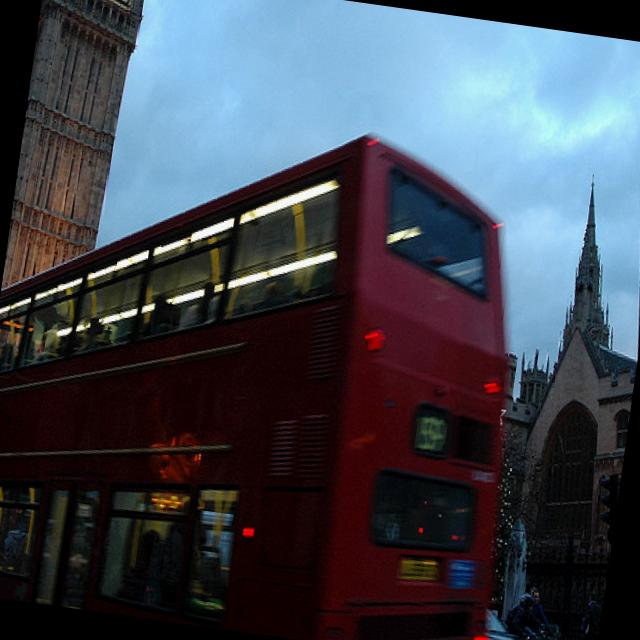Vehicle: (0, 87, 562, 640), (482, 611, 570, 640), (522, 630, 571, 640)
